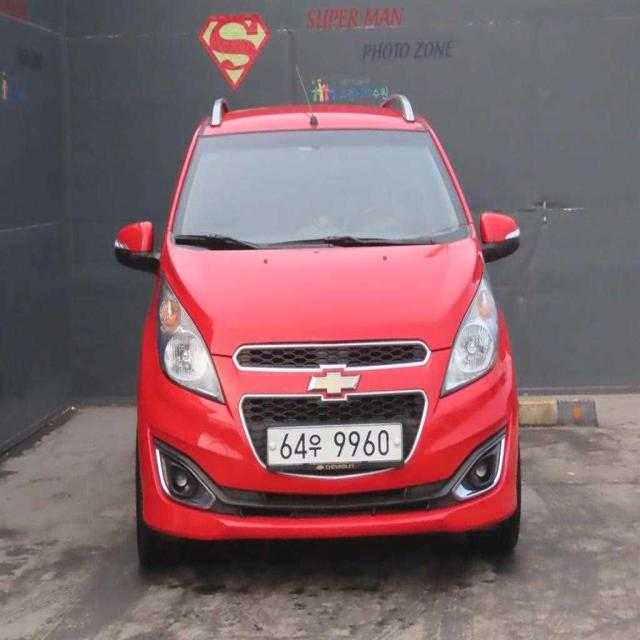car: (109, 82, 537, 582)
illegal_plate: (260, 420, 406, 475)
